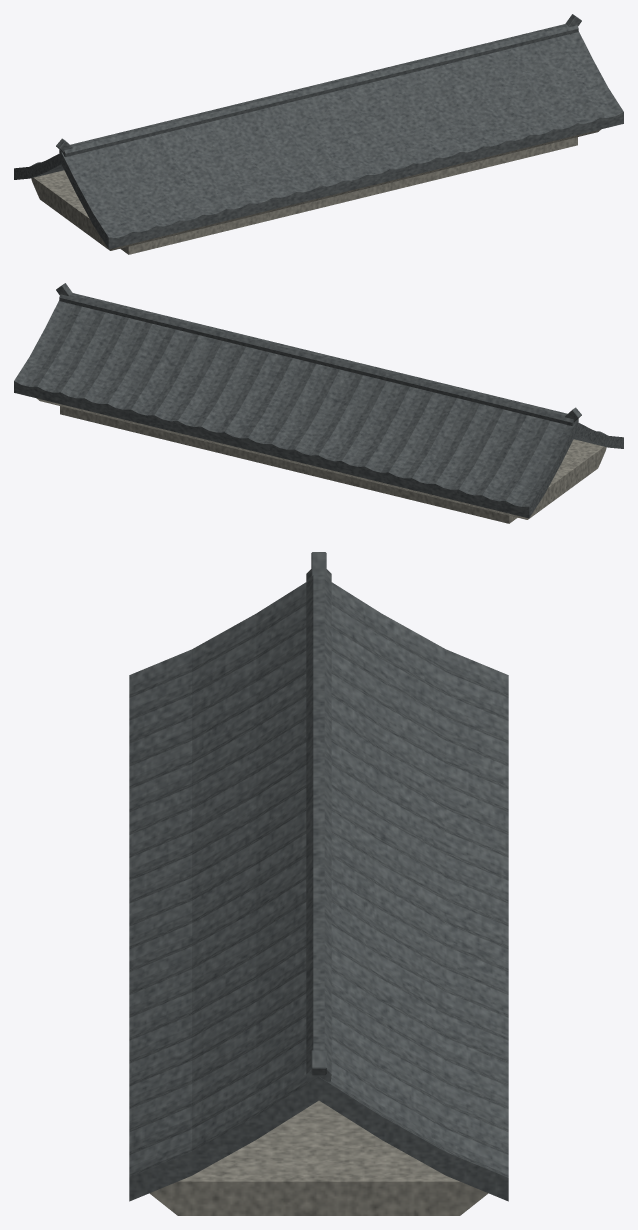
File: CliffGateCrown_LOD1.fbx
3 renders of one model, top to bottom at view 1: azimuth 30°, elevation 25°; view 2: azimuth 150°, elevation 25°; view 3: azimuth 270°, elevation 25°, orthographic. The views are drawn at different scales.
Parts seen in each view (by area): view 1: CliffGateCrown.001; view 2: CliffGateCrown.001; view 3: CliffGateCrown.001.
Part boxes in pixels (<box>): CliffGateCrown.001: <box>14,14,623,254</box>; CliffGateCrown.001: <box>14,283,623,523</box>; CliffGateCrown.001: <box>129,552,508,1215</box>.
Size of the model in its own units: 3.25 by 0.5784 by 1.02.
Materials: 1 (1 with a texture image).
